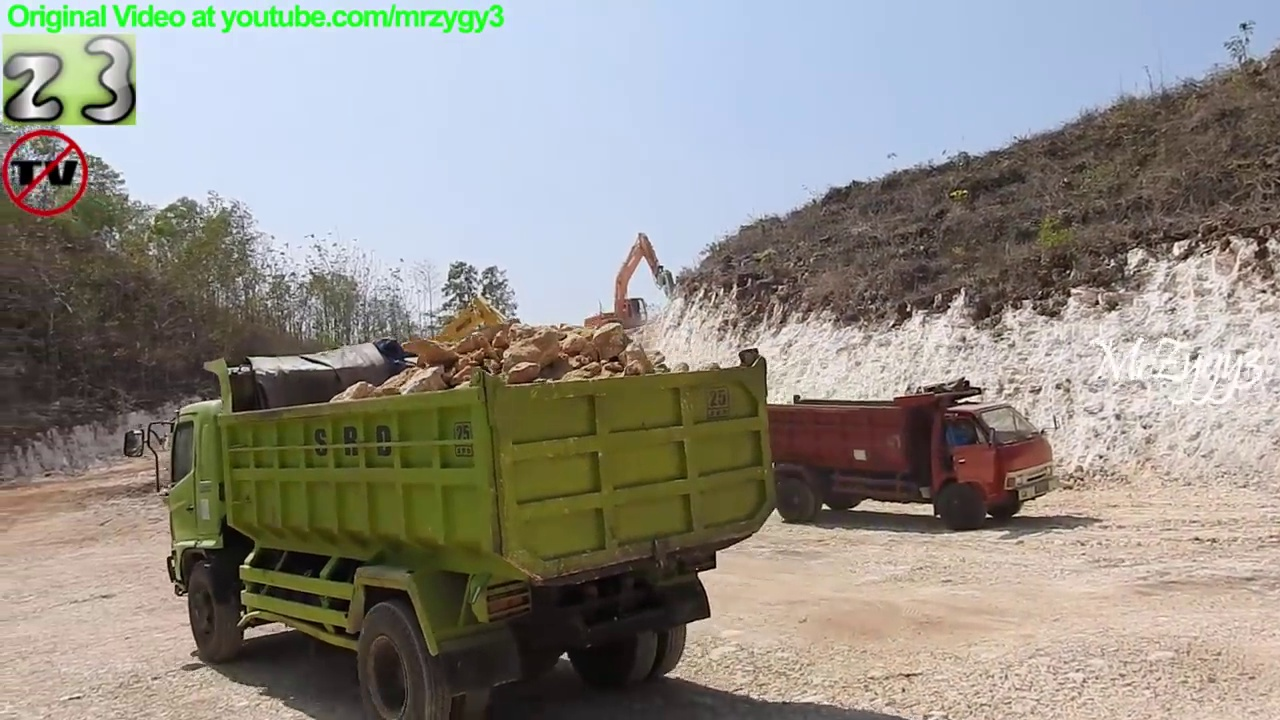excavator: (717, 374, 1065, 533), (385, 286, 554, 462), (577, 228, 685, 352)
truck: (117, 330, 788, 720)
